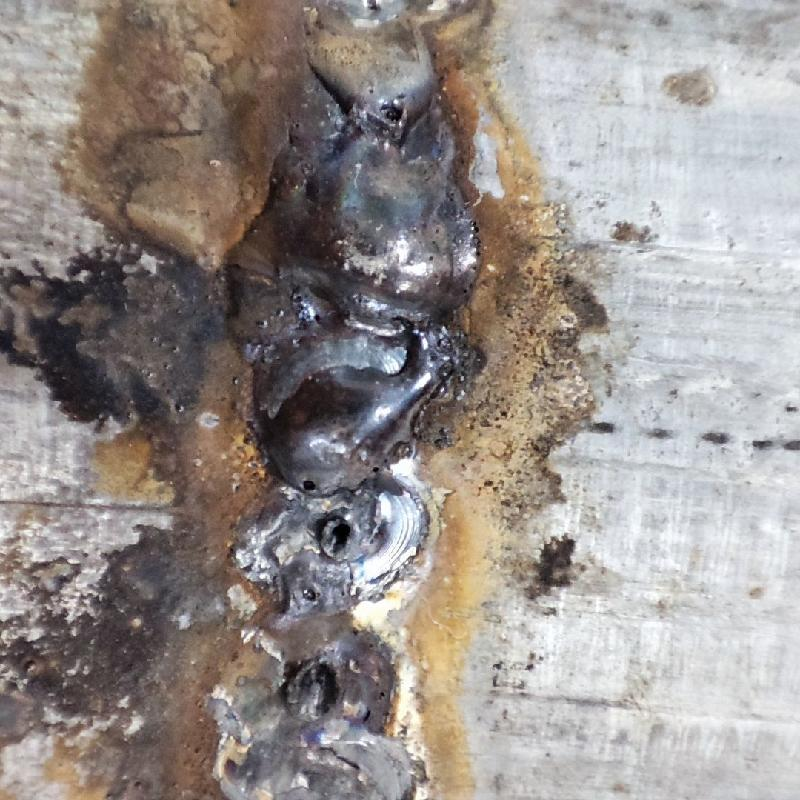Not_fully_soldered: (228, 476, 427, 798), (290, 3, 448, 141)
Surface_pores: (286, 460, 347, 515), (363, 73, 418, 130), (304, 508, 363, 560)
Weld: (257, 135, 482, 496)
